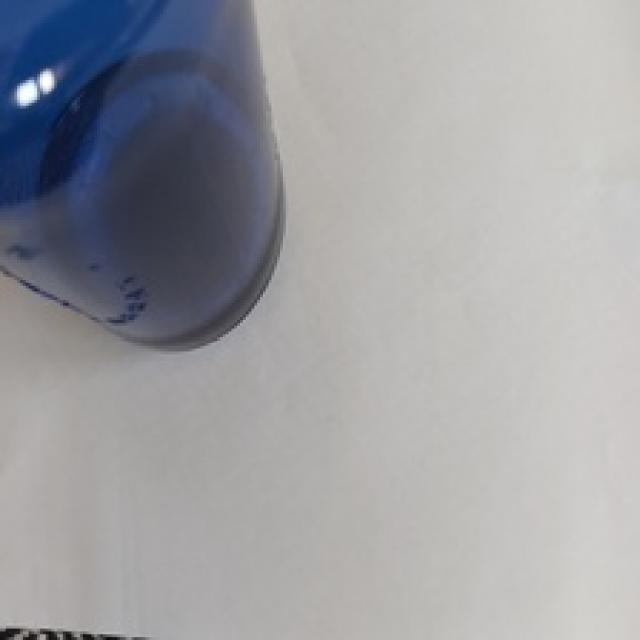Plastic: (0, 0, 290, 355)
